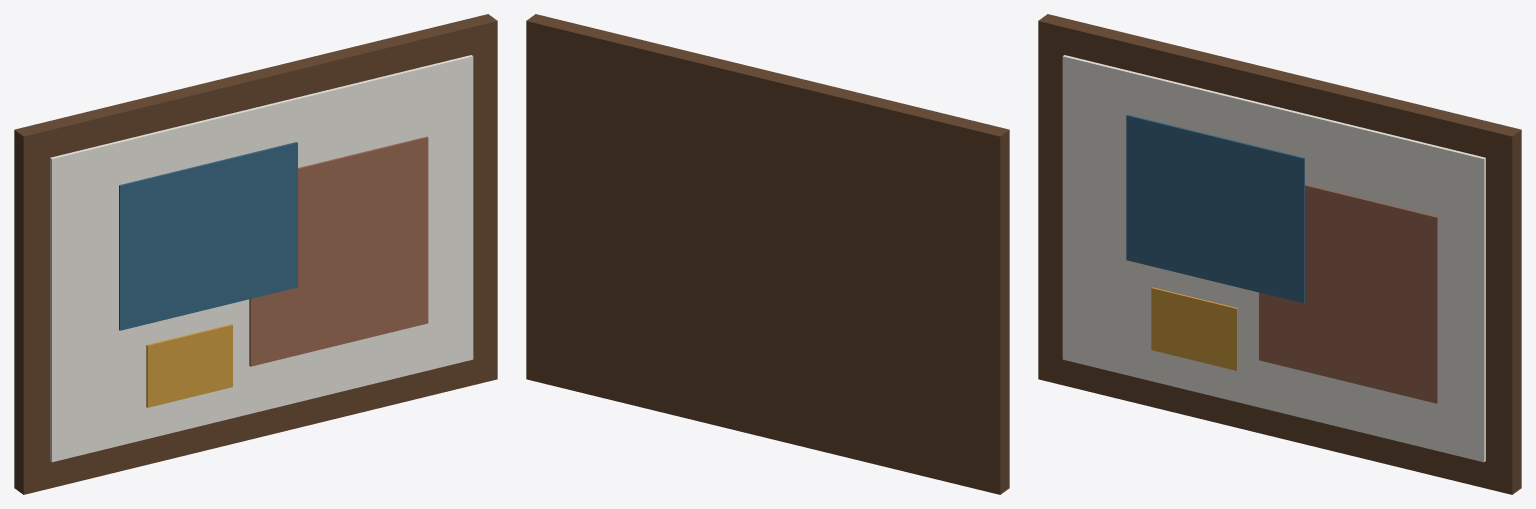
Rendered from Pizarra.fbx.
3 renders of one model, left to right at view 1: azimuth 30°, elevation 25°; view 2: azimuth 150°, elevation 25°; view 3: azimuth 330°, elevation 25°, orthographic.
Visible parts, largest first — view 1: Deco_Cuadro; view 2: Deco_Cuadro; view 3: Deco_Cuadro.
Boxes of the visible parts, x1,y1,x2,y2 form: Deco_Cuadro: [14, 14, 497, 494]; Deco_Cuadro: [526, 14, 1009, 494]; Deco_Cuadro: [1038, 14, 1521, 494].
Bounding box in the file's own units: 0.72 × 0.52 × 0.039.
